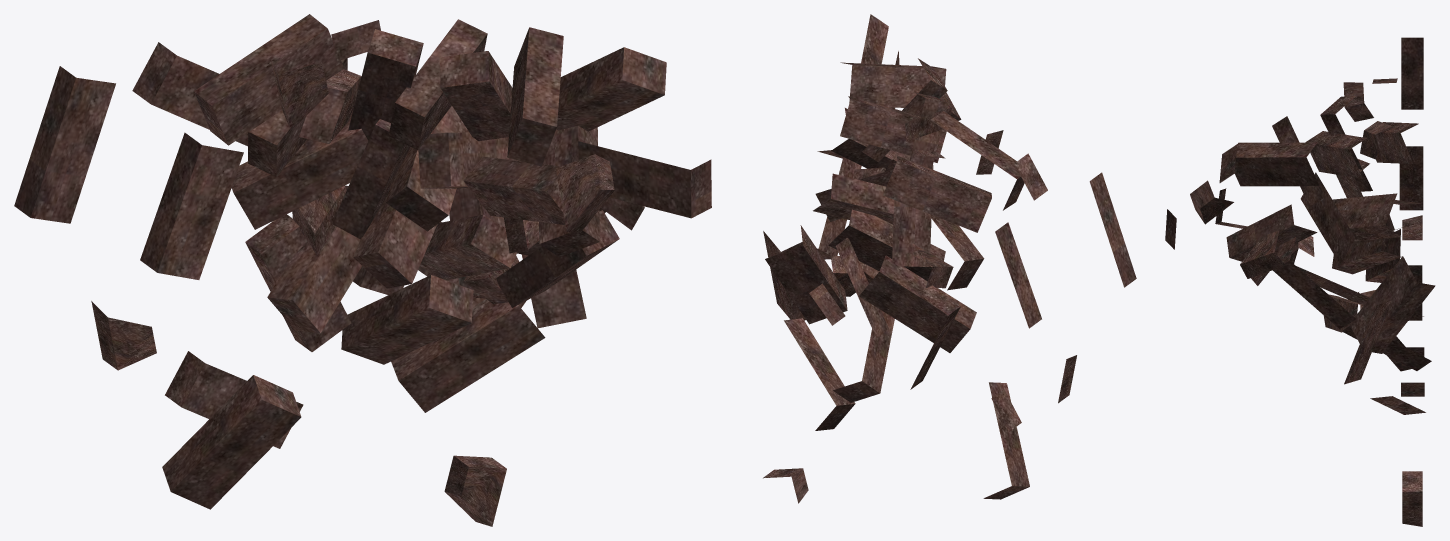
The model's file is prop_redbrickpile_corner_in_debris_02.glb.
3 renders of one model, left to right at view 1: azimuth 30°, elevation 25°; view 2: azimuth 150°, elevation 25°; view 3: azimuth 270°, elevation 25°, orthographic. The views are drawn at different scales.
Bounding box in the file's own units: 58.53 × 62 × 39.32.
1 material, 1 textured.
